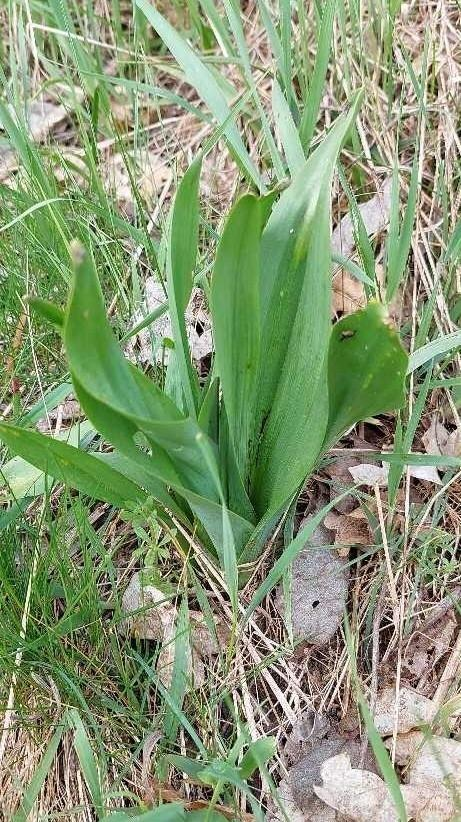Colchicum autumnale L: (58, 102, 412, 578)
